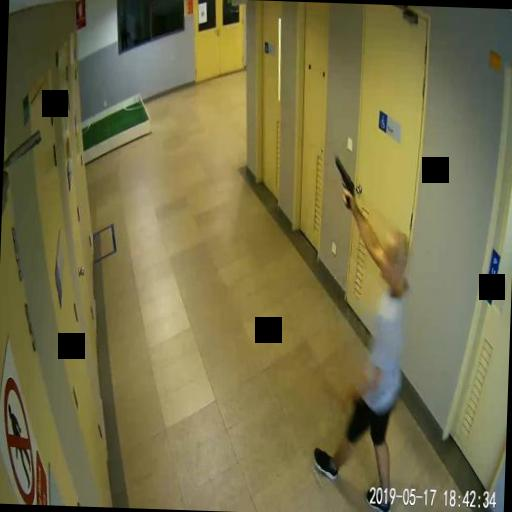Handgun: (332, 154, 354, 210)
